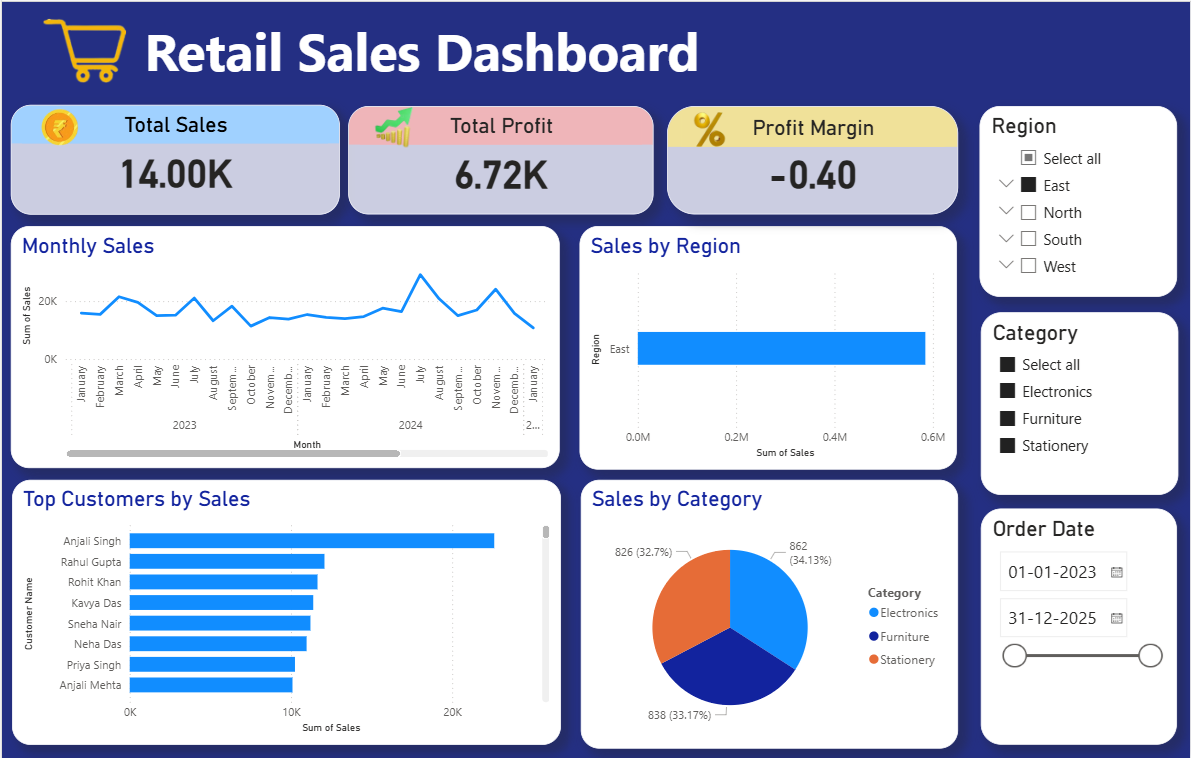

This screenshot's page, from the dashboard's own definition file:
{"tool":"powerbi","page":{"name":"Page 1","canvas":[1280,858],"ordinal":0},"visuals":[{"type":"kpi","title":"Total Sales","fields":{"Indicator":["Sum(dataset.Sales)"],"TrendLine":["dataset.Sales"]},"box":[9.4,154.8,354.1,118.5],"z":0},{"type":"kpi","title":"Total Profit","fields":{"Indicator":["Sum(dataset.Profit)"],"TrendLine":["dataset.Profit"]},"box":[372.9,156.2,328.5,117.1],"z":1000},{"type":"lineChart","title":"Monthly Sales","fields":{"Y":["Sum(dataset.Sales)"],"Category":["dataset.Order Date.Variation.Date Hierarchy.Year","dataset.Order Date.Variation.Date Hierarchy.Month"]},"box":[9.4,285.4,591,261.2],"z":2000},{"type":"clusteredBarChart","title":" Sales by Region","fields":{"Y":["Sum(dataset.Sales)"],"Category":["dataset.Region"]},"box":[622,285.4,406.6,262.5],"z":3000},{"type":"pieChart","title":"Sales by Category","fields":{"Category":["dataset.Category"],"Y":["CountNonNull(dataset.Category)"]},"box":[623.3,558.7,406.6,289.4],"z":4000},{"type":"slicer","title":"Region","fields":{"Values":["dataset.Region","dataset.Category","dataset.Sales"]},"box":[1052.8,156.2,212.7,206],"z":5000},{"type":"kpi","title":"Profit Margin","fields":{"Indicator":["dataset.Profit Margin"],"TrendLine":["dataset.Order Date"]},"box":[716.2,156.2,313.7,117.1],"z":6000},{"type":"slicer","title":"Category","fields":{"Values":["dataset.Category"]},"box":[1054.1,378.3,212.7,196.6],"z":7000},{"type":"slicer","title":"Order Date","fields":{"Values":["dataset.Order Date"]},"box":[1054.1,589.7,211.4,254.4],"z":8000},{"type":"barChart","title":"Top Customers by Sales","fields":{"Y":["Sum(dataset.Sales)"],"Category":["dataset.Customer Name"]},"box":[10.8,558.7,591,285.4],"z":9000},{"type":"image","box":[701.4,160.2,123.9,41.7],"z":10000},{"type":"image","box":[335.2,156.2,173.7,45.8],"z":11000},{"type":"image","box":[9.4,149.4,106.4,59.2],"z":12000},{"type":"textbox","box":[9.4,52.5,1234.5,109],"z":13000},{"type":"image","box":[0,52.5,177.7,88.9],"z":14000}]}

Visuals, with their boxes in screenshot pixels (x1, y1, x2, y2):
"Total Sales" kpi: [3, 98, 334, 209]
"Total Profit" kpi: [342, 100, 650, 209]
"Monthly Sales" lineChart: [3, 220, 555, 465]
" Sales by Region" clusteredBarChart: [575, 220, 955, 466]
"Sales by Category" pieChart: [577, 476, 957, 746]
"Region" slicer: [978, 100, 1177, 292]
"Profit Margin" kpi: [663, 100, 957, 209]
"Category" slicer: [979, 307, 1178, 491]
"Order Date" slicer: [979, 505, 1177, 743]
"Top Customers by Sales" barChart: [4, 476, 556, 743]
image: [650, 103, 765, 142]
image: [307, 100, 470, 142]
image: [3, 93, 102, 149]
textbox: [3, 3, 1157, 104]
image: [0, 3, 160, 86]
